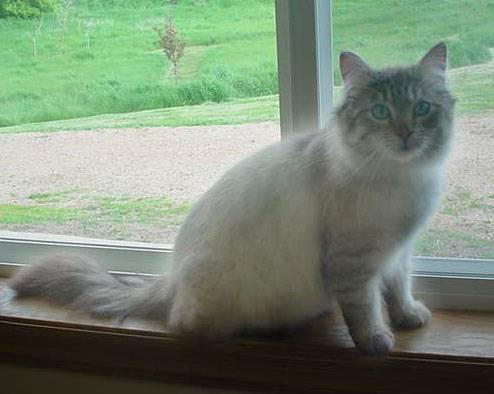cat: (0, 43, 454, 352)
